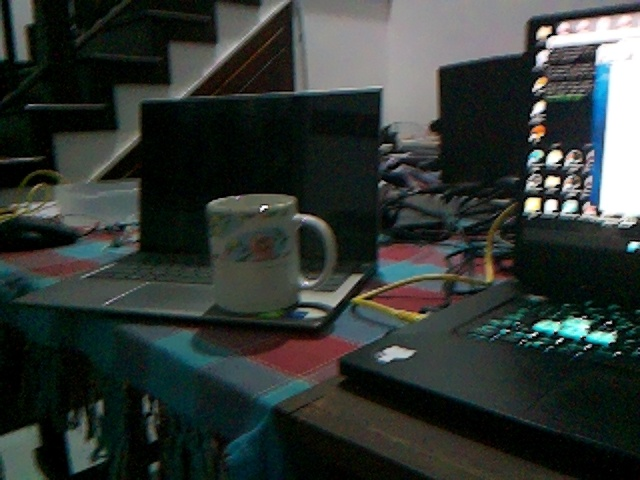mug: (201, 189, 338, 315)
